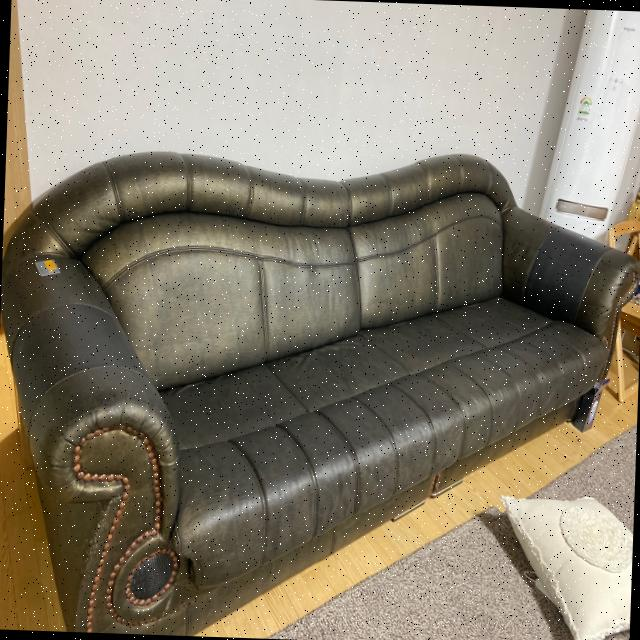Sofa: (0, 107, 639, 640)
